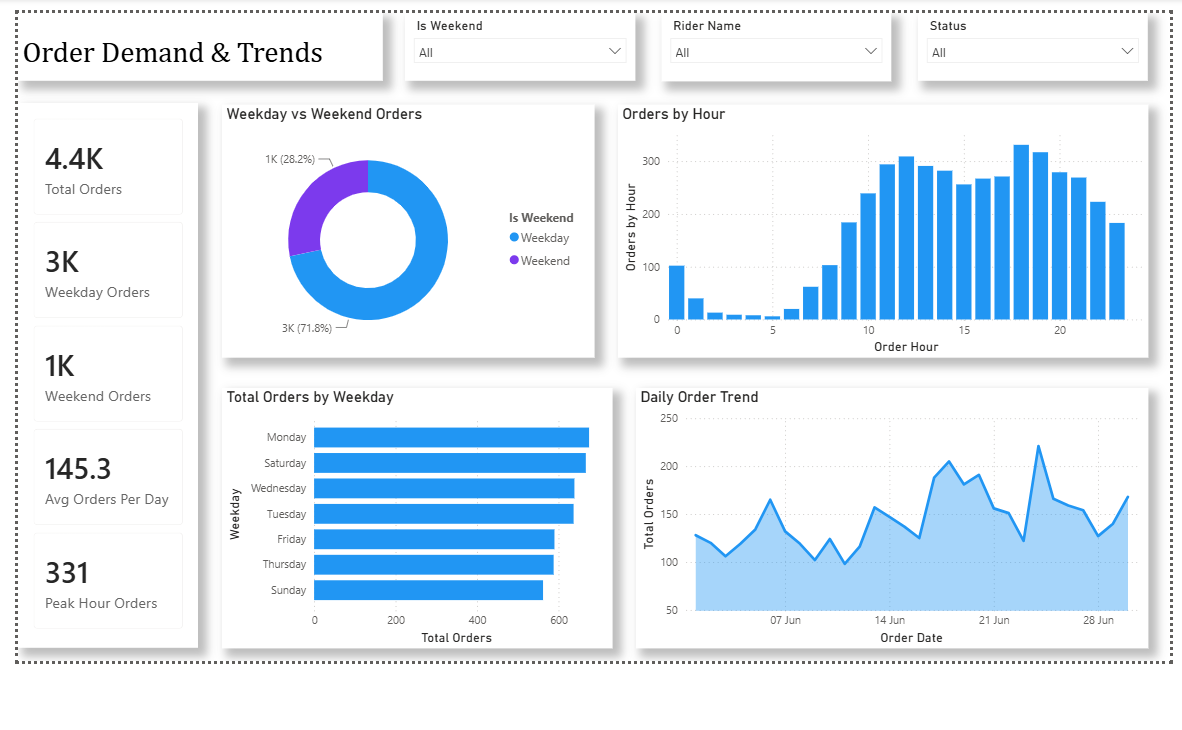

The dashboard page shown, as its layout file describes it:
{"tool":"powerbi","page":{"name":"Order Demand & Trends","canvas":[1280,720],"ordinal":0},"visuals":[{"type":"cardVisual","fields":{"Data":["_Measures.Total Orders","_Measures.Weekday Orders","_Measures.Weekend Orders","_Measures.Avg Orders Per Day","_Measures.Peak Hour Orders"]},"box":[0,100.8,200,605],"z":0},{"type":"clusteredColumnChart","title":"Orders by Hour","fields":{"Category":["Orders.Order Hour"],"Y":["_Measures.Orders by Hour"]},"box":[666.2,101.5,589.2,281.5],"z":1000},{"type":"donutChart","title":"Weekday vs Weekend Orders","fields":{"Category":["Orders.Is Weekend"],"Y":["_Measures.Total Orders"]},"box":[226.2,101.5,413.8,281.5],"z":2000},{"type":"areaChart","title":"Daily Order Trend","fields":{"Category":["Orders.Order Date"],"Y":["_Measures.Total Orders"]},"box":[686.2,416.9,569.2,289.2],"z":3000},{"type":"slicer","fields":{"Values":["Orders.Rider Name"]},"box":[715,0,255,76],"z":4000},{"type":"slicer","fields":{"Values":["Orders.Status"]},"box":[1000,0,255,75],"z":5000},{"type":"slicer","fields":{"Values":["Orders.Is Weekend"]},"box":[430,0,255.8,75],"z":6000},{"type":"textbox","box":[0,0,405,75],"z":7000},{"type":"clusteredBarChart","fields":{"Category":["Orders.Weekday"],"Y":["_Measures.Total Orders"]},"box":[226.2,416.9,433.8,289.2],"z":8000}]}

Visuals, with their boxes on the page's 1280x720 design canvas (x1, y1, x2, y2). These are canvas units, not pixel positions in the 1182x730 screenshot, which may show the page scaled, cropped or inside an application window:
cardVisual - _Measures.Total Orders x _Measures.Weekday Orders: (0,101,200,706)
"Orders by Hour" clusteredColumnChart: (666,102,1255,383)
"Weekday vs Weekend Orders" donutChart: (226,102,640,383)
"Daily Order Trend" areaChart: (686,417,1255,706)
slicer - Orders.Rider Name: (715,0,970,76)
slicer - Orders.Status: (1000,0,1255,75)
slicer - Orders.Is Weekend: (430,0,686,75)
textbox: (0,0,405,75)
clusteredBarChart - Orders.Weekday x _Measures.Total Orders: (226,417,660,706)
